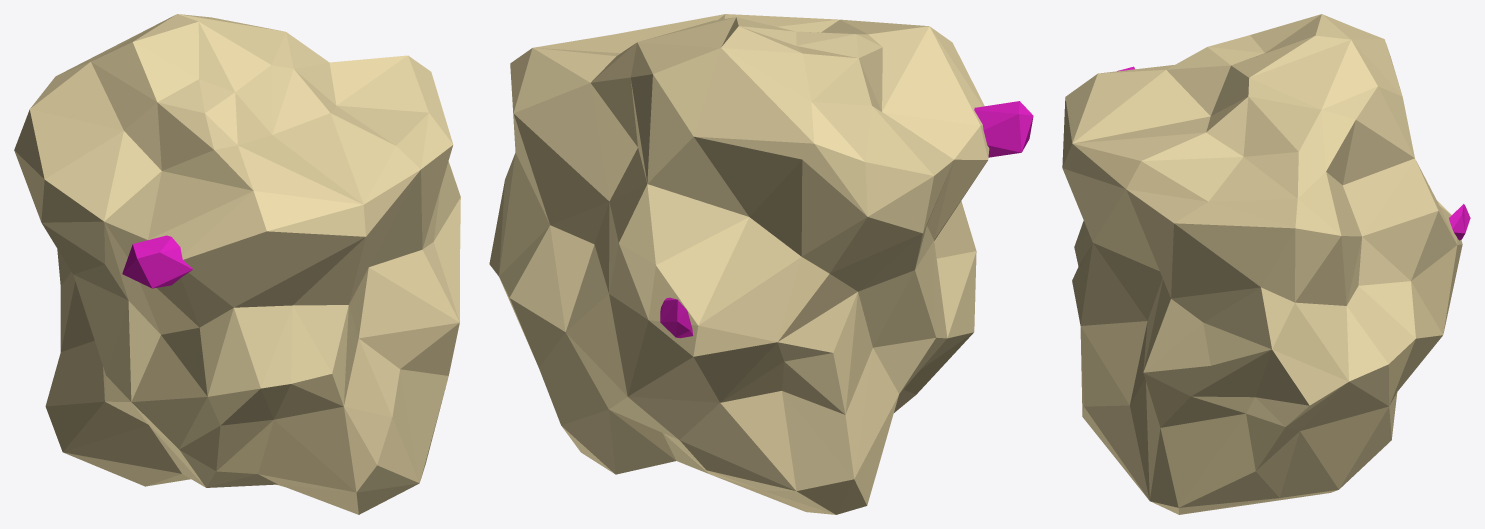
The model's file is CrystalOre (40).fbx.
3 renders of one model, left to right at view 1: azimuth 30°, elevation 25°; view 2: azimuth 150°, elevation 25°; view 3: azimuth 270°, elevation 25°, orthographic. The views are drawn at different scales.
Visible parts, largest first — view 1: Asteroid260; view 2: Asteroid260; view 3: Asteroid260.
Part boxes in pixels (bbox=[...]): Asteroid260: bbox=[14, 14, 460, 514]; Asteroid260: bbox=[489, 14, 1033, 514]; Asteroid260: bbox=[1062, 14, 1470, 514].
Bounding box in the file's own units: 275 × 290 × 253.
